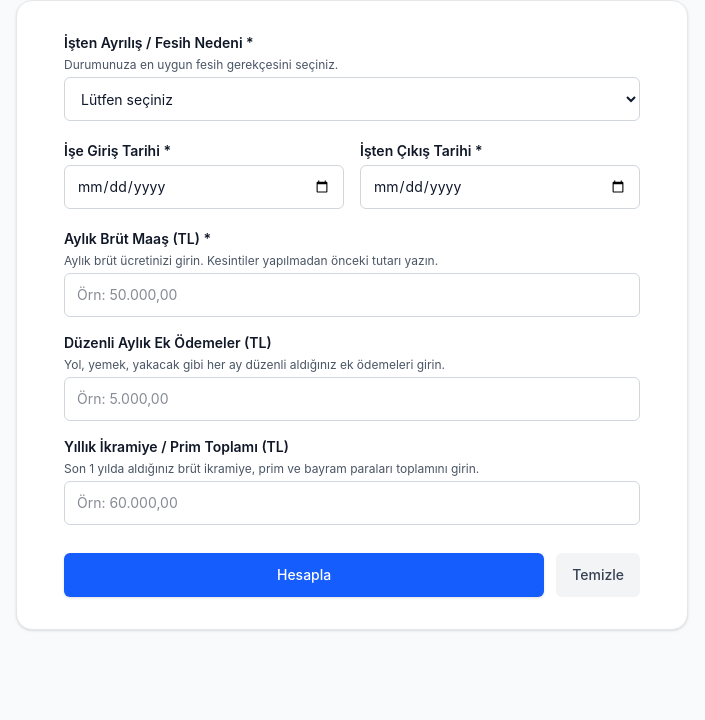
Test case: Calculator — Blocked Durumu › blocked durumunda hiçbir 'TL' tutarının ekrana basılmadığını doğrulamalı
Select "Kendi isteğimle, haklı bir neden olmadan istifa ettim" in the dropdown labelled "İşten Ayrılış / Fesih Nedeni *": (352, 99) x1=64 y1=77 x2=640 y2=121
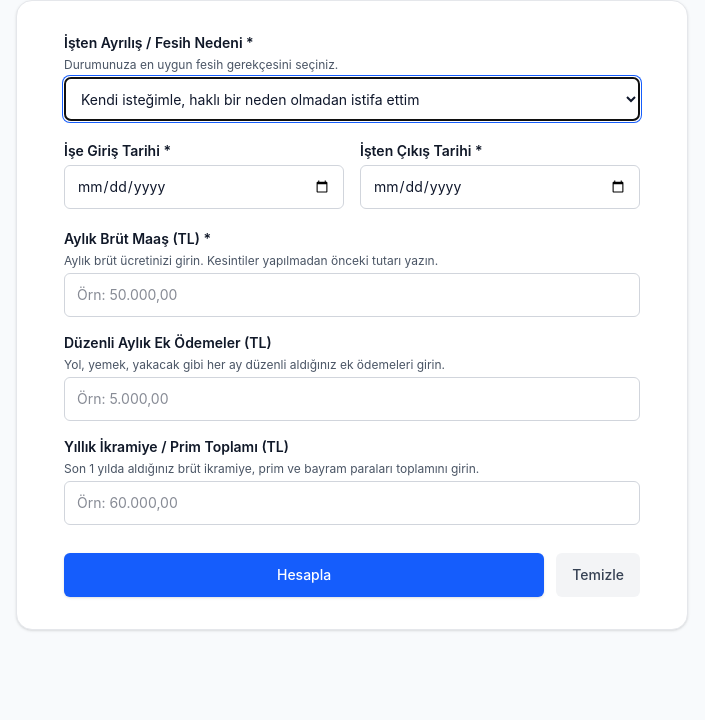
In the date field labelled "İşe Giriş Tarihi *": (204, 187) x1=64 y1=165 x2=344 y2=209, type "2022-08-15"
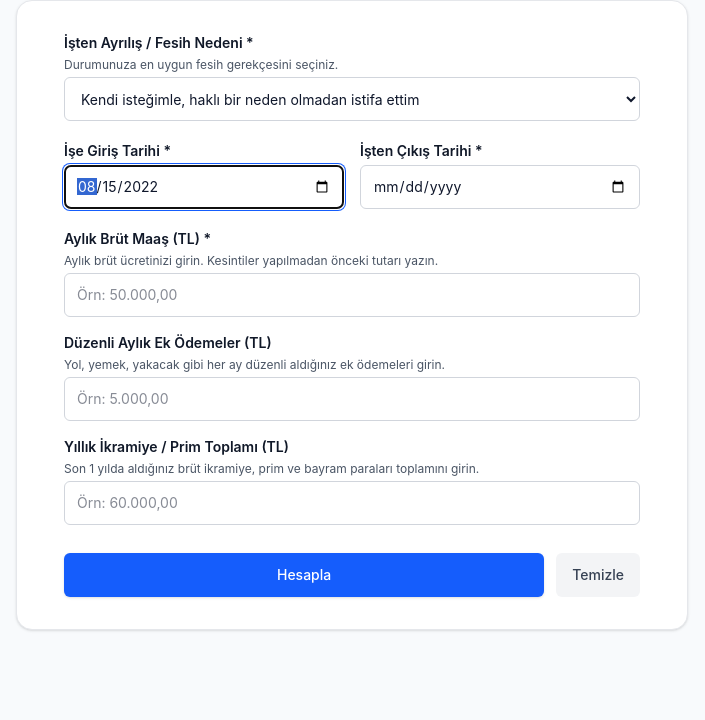
In the date field labelled "İşten Çıkış Tarihi *": (500, 187) x1=360 y1=165 x2=640 y2=209, type "2026-08-14"
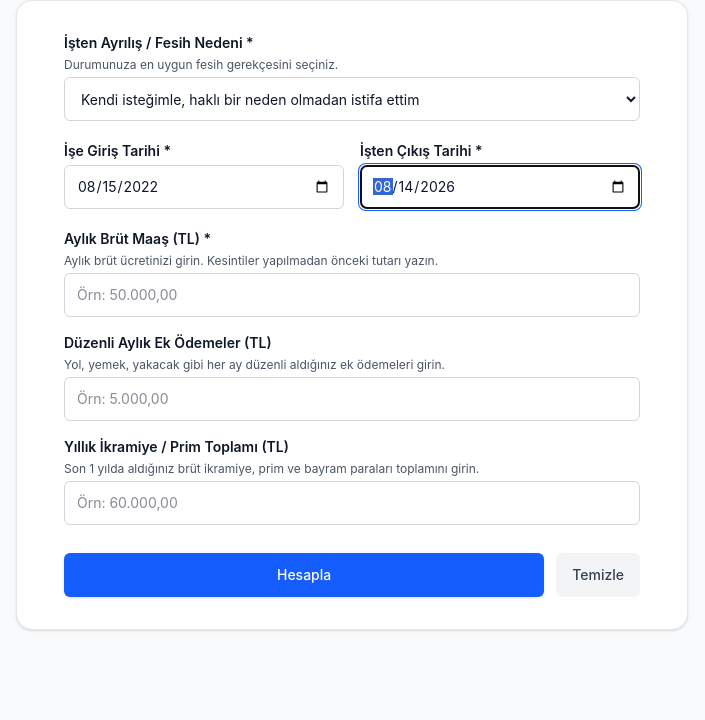
In the field labelled "Aylık Brüt Maaş (TL) *": (352, 295) x1=64 y1=273 x2=640 y2=317, type "50000"
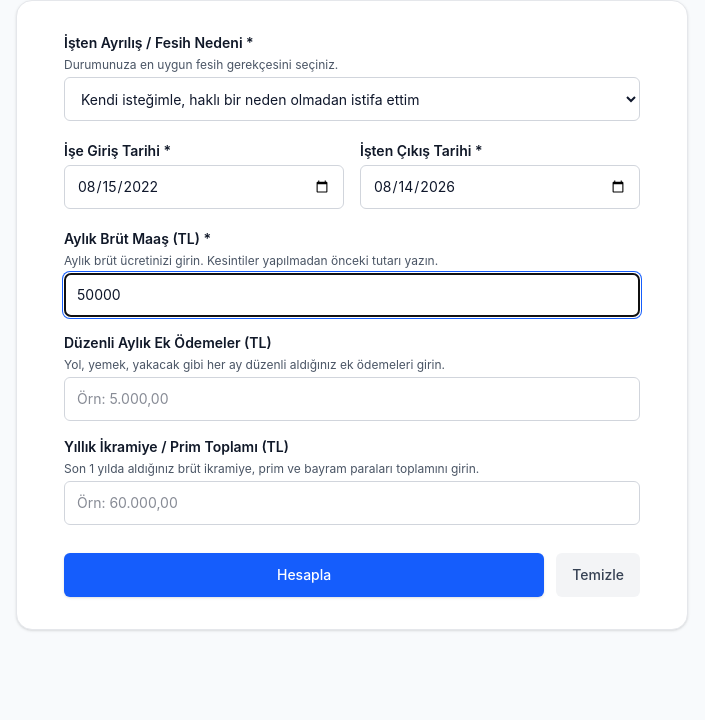
Click the button "Hesapla": (304, 575) x1=64 y1=553 x2=544 y2=597
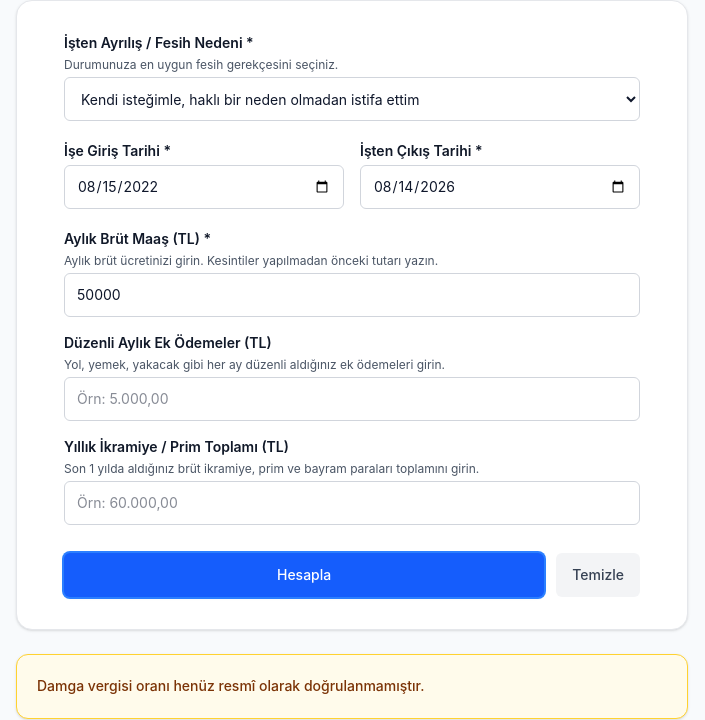
Expected: the text "Damga vergisi oranı henüz resmî olarak doğrulanmamıştır." is shown, x1=16 y1=654 x2=688 y2=719
